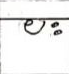anusvara: (52, 22, 58, 28)
